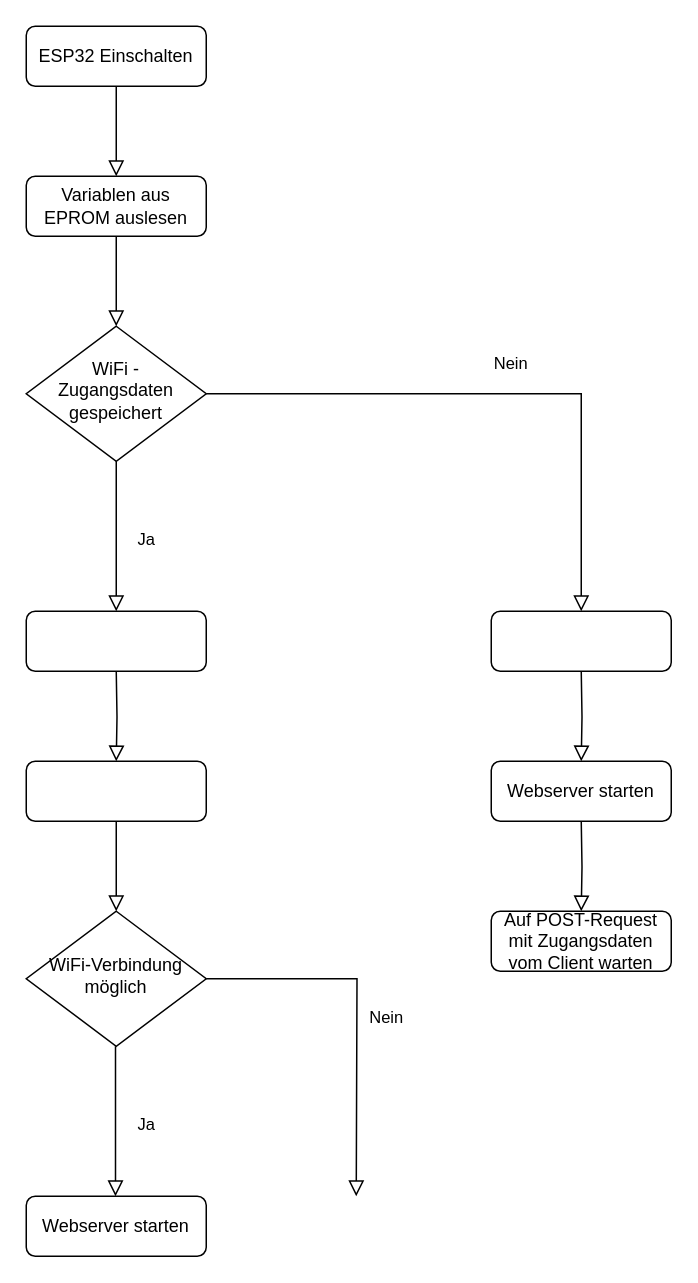
Some shapes in this 698 by 1283 pixel diagram are drawn without their labels. The centre of each missing label's shape, as x and y in pixels:
Mit WiFi verbinden: pixel 115 790
WiFi AccessPoint-Mode: pixel 580 640
WiFi Station-Mode: pixel 115 640
